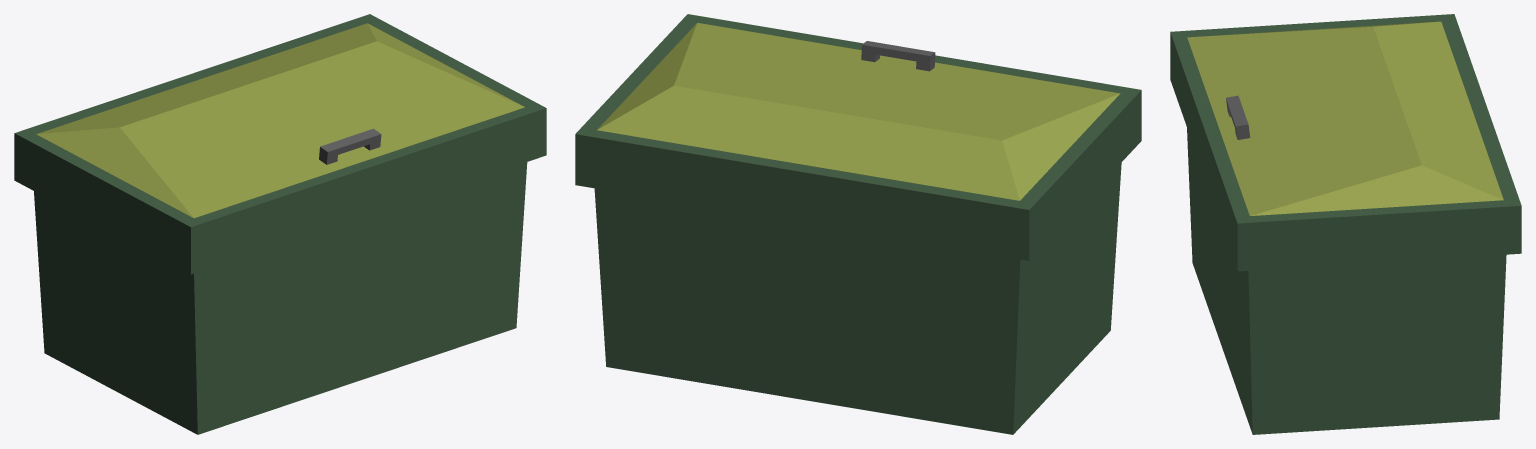
File: Container.fbx
3 renders of one model, left to right at view 1: azimuth 30°, elevation 25°; view 2: azimuth 150°, elevation 25°; view 3: azimuth 270°, elevation 25°, orthographic. The views are drawn at different scales.
Visible parts, largest first — view 1: Container; view 2: Container; view 3: Container.
Boxes of the visible parts, x1,y1,x2,y2 form: Container: (14, 14, 546, 434); Container: (575, 14, 1141, 434); Container: (1170, 14, 1521, 434).
Bounding box in the file's own units: 0.4997 × 0.269 × 0.354.
